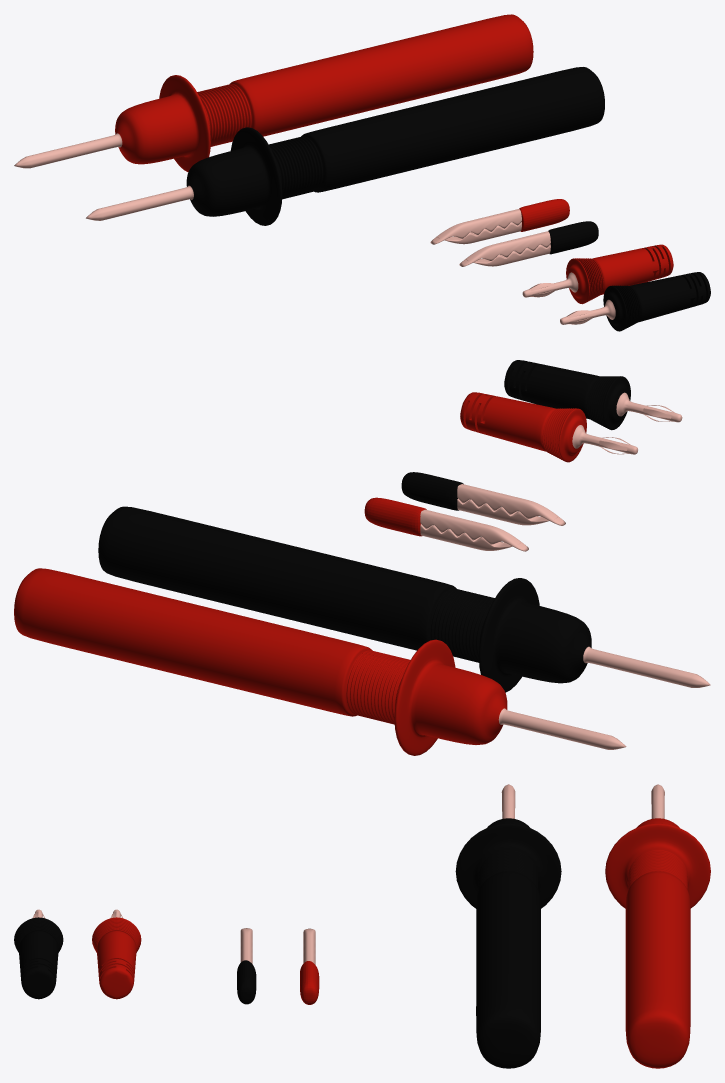
The model's file is Cables.fbx.
3 renders of one model, top to bottom at view 1: azimuth 30°, elevation 25°; view 2: azimuth 150°, elevation 25°; view 3: azimuth 270°, elevation 25°, orthographic. The views are drawn at different scales.
Visible parts, largest first — view 1: Cube.001, Cube, Cube.004, Cube.005, Cube.002, Cube.003; view 2: Cube, Cube.001, Cube.005, Cube.004, Cube.002, Cube.003; view 3: Cube, Cube.001, Cube.004, Cube.005, Cube.002, Cube.003.
Part boxes in pixels (bbox=[...]): Cube.001: bbox=[86, 67, 604, 225]; Cube: bbox=[14, 14, 533, 171]; Cube.004: bbox=[560, 272, 710, 331]; Cube.005: bbox=[522, 244, 673, 304]; Cube.002: bbox=[459, 221, 598, 266]; Cube.003: bbox=[430, 199, 569, 244]; Cube: bbox=[14, 568, 626, 755]; Cube.001: bbox=[98, 506, 710, 692]; Cube.005: bbox=[460, 392, 637, 462]; Cube.004: bbox=[504, 360, 682, 430]; Cube.002: bbox=[401, 472, 565, 525]; Cube.003: bbox=[364, 497, 528, 551]; Cube: bbox=[605, 784, 710, 1068]; Cube.001: bbox=[455, 784, 561, 1068]; Cube.004: bbox=[14, 909, 63, 999]; Cube.005: bbox=[92, 909, 141, 999]; Cube.002: bbox=[237, 928, 256, 1004]; Cube.003: bbox=[300, 928, 319, 1004].
Size of the model in its own units: 1694 by 292 by 1925.
